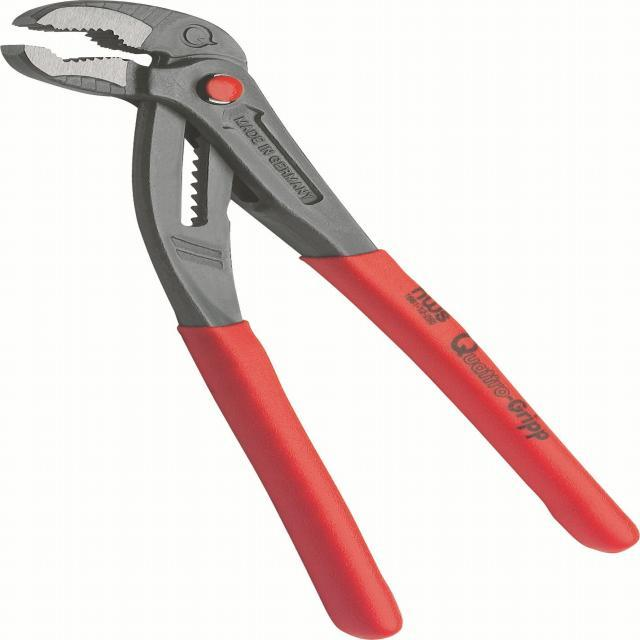pliers: (3, 0, 635, 632)
